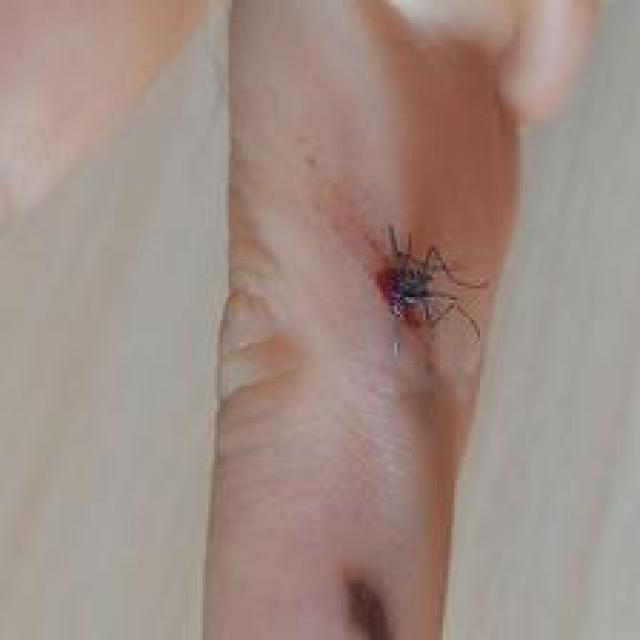Aedes albopictus: (372, 223, 492, 348)
